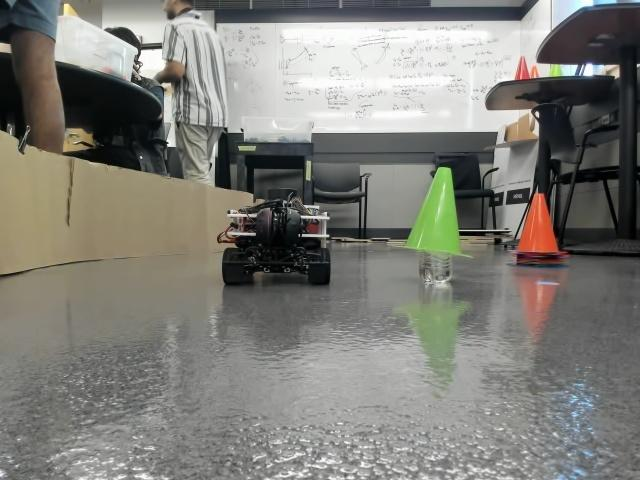Car: (224, 201, 331, 285)
